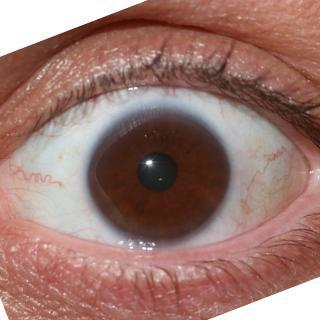pupil: (136, 152, 176, 191)
